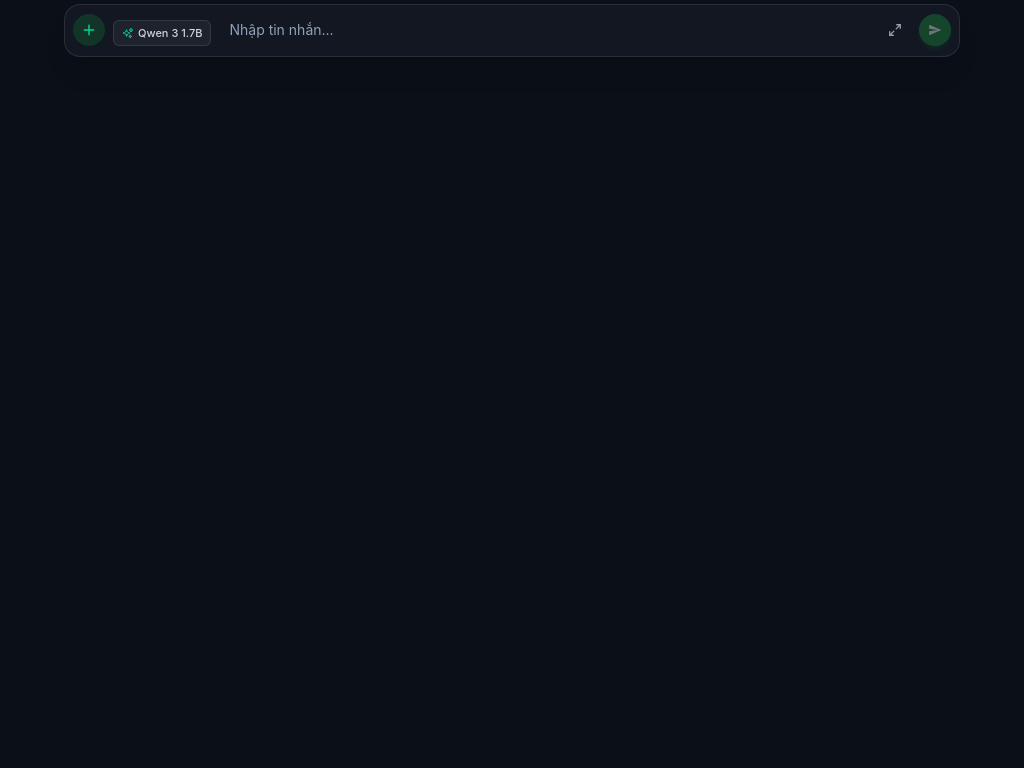
Test: ChatInput › should preserve draft when Escape is pressed to close ExpandedEditorModal
Step 1. Type "Important draft" into the text box with placeholder "Nhập tin nhắn..." → (545, 30), box [220,13,871,48]
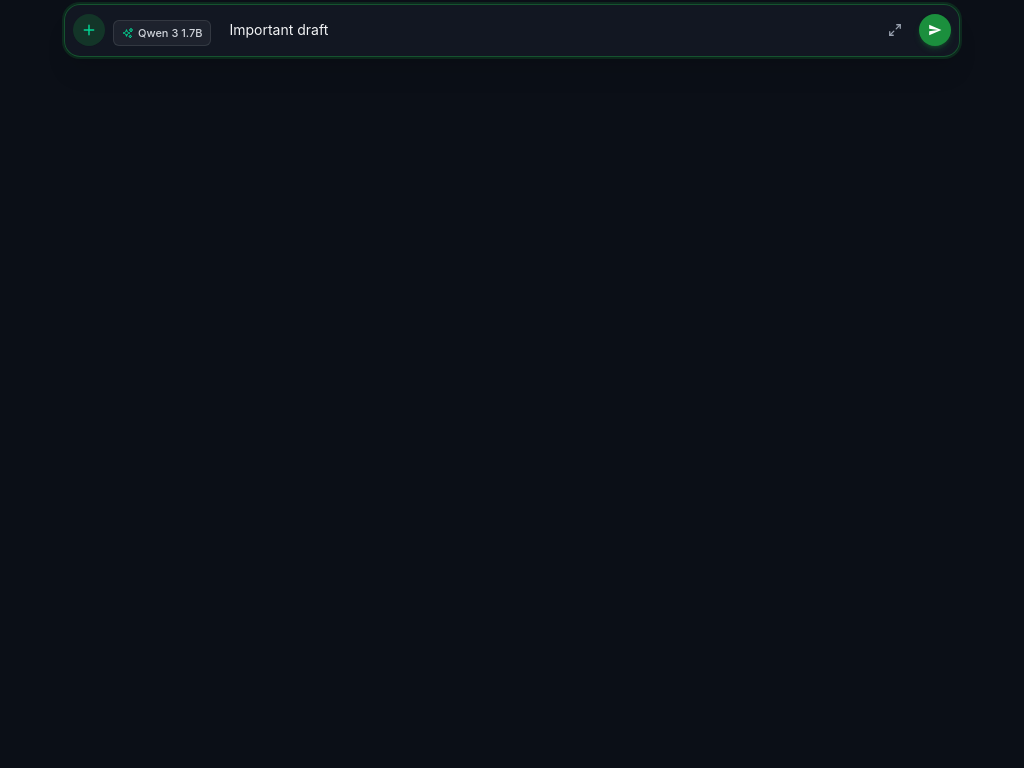
Step 2. Click the button titled "Mở rộng trình soạn thảo" → (895, 30), box [879,14,911,46]
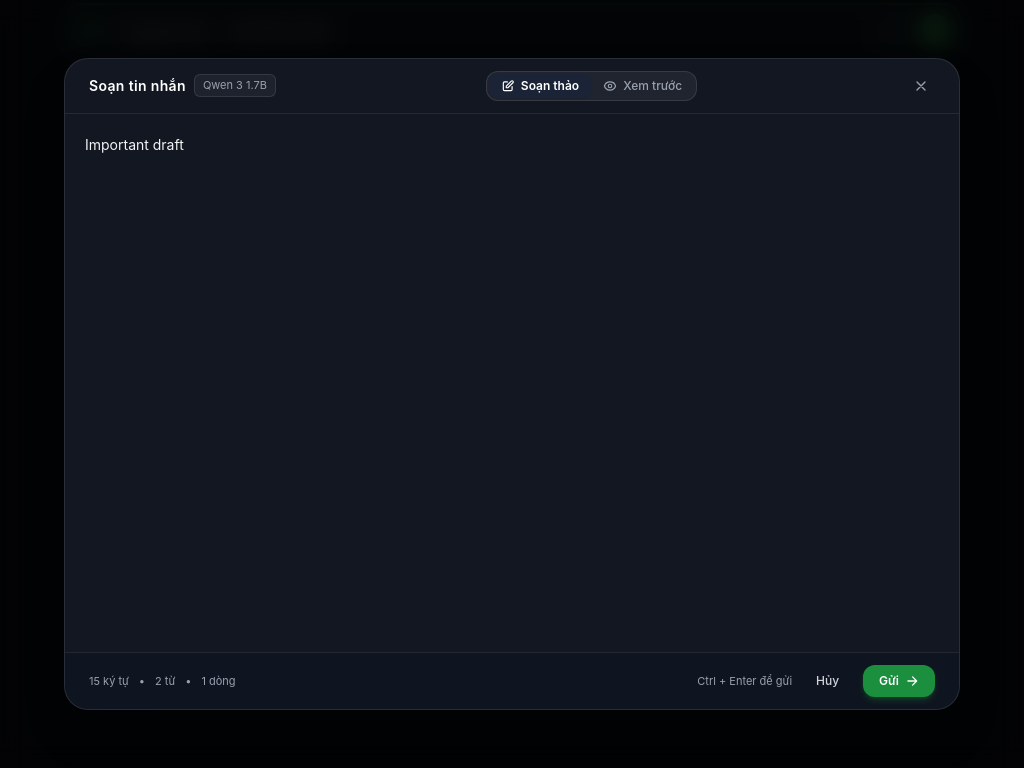
Check: the dialog is shown
# Press Escape
Step 3. Press Escape
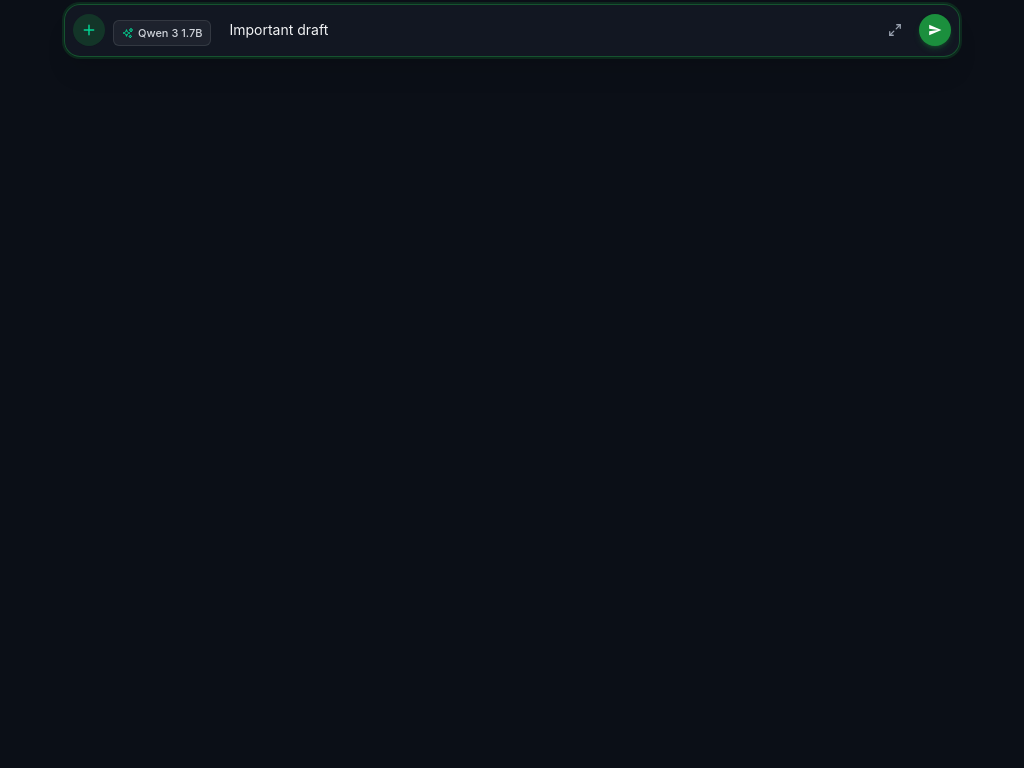
Check: the dialog is gone
